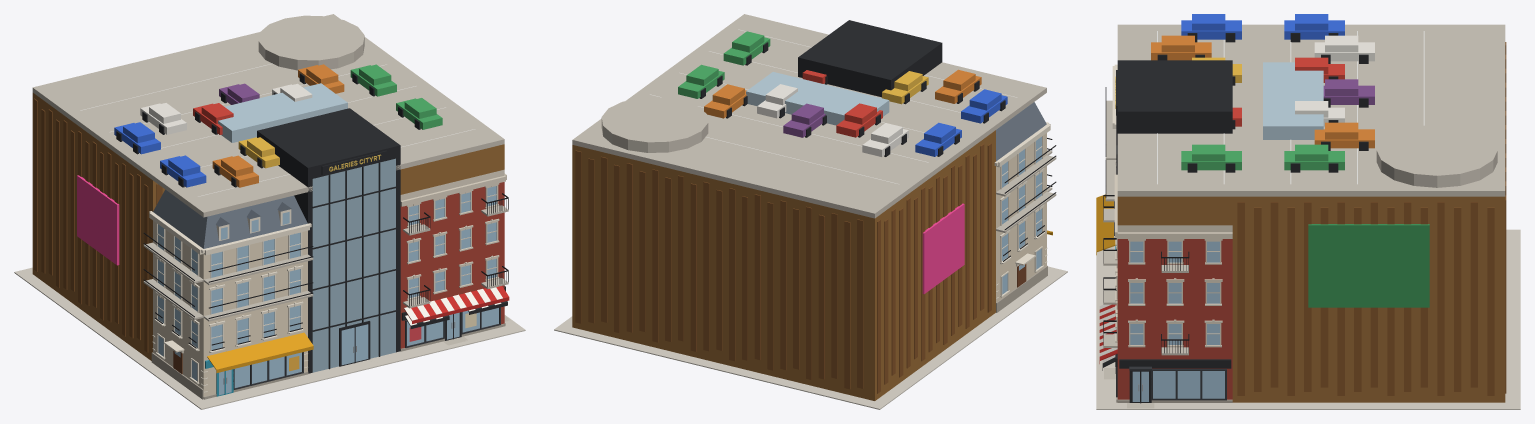
File: Simge_avm_Hafif.fbx
The picture shows the model from 3 angles, left to right: view 1: azimuth 30°, elevation 25°; view 2: azimuth 150°, elevation 25°; view 3: azimuth 270°, elevation 25°; orthographic projection. The views are drawn at different scales.
Visible parts, largest first — view 1: Simge_avm_Hafif; view 2: Simge_avm_Hafif; view 3: Simge_avm_Hafif.
Part boxes in pixels (left/top/right/bottom): Simge_avm_Hafif: left=14, top=14, right=525, bottom=409; Simge_avm_Hafif: left=554, top=14, right=1067, bottom=409; Simge_avm_Hafif: left=1096, top=14, right=1520, bottom=409.
Size of the model in its own units: 28 by 17.12 by 28.
